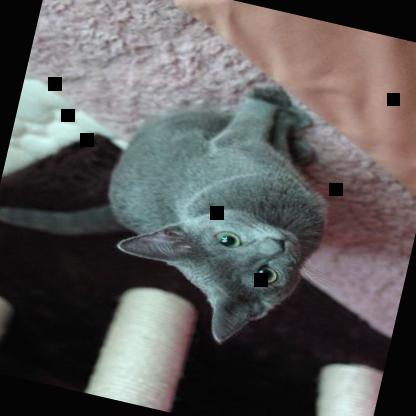cat: (0, 27, 360, 363)
